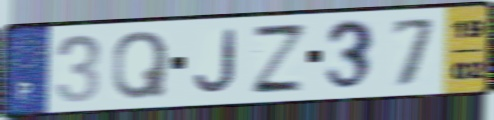3: (322, 16, 381, 95), (54, 33, 103, 104)
7: (389, 16, 440, 89)
J: (191, 27, 239, 95)
Q: (110, 29, 172, 103)
Z: (248, 23, 311, 95)
